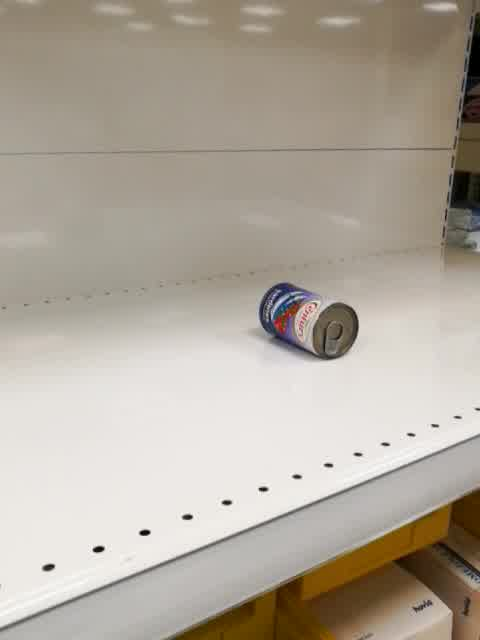sardine: (256, 281, 359, 361)
